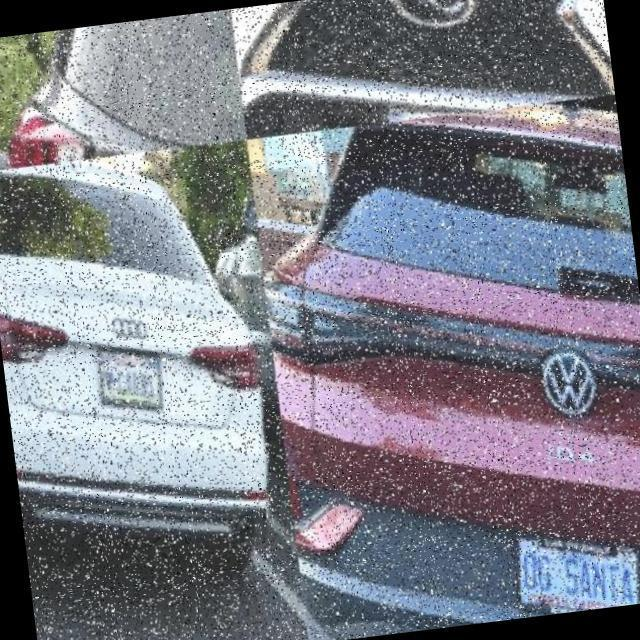License Plate: (504, 526, 632, 611), (84, 326, 164, 410)
